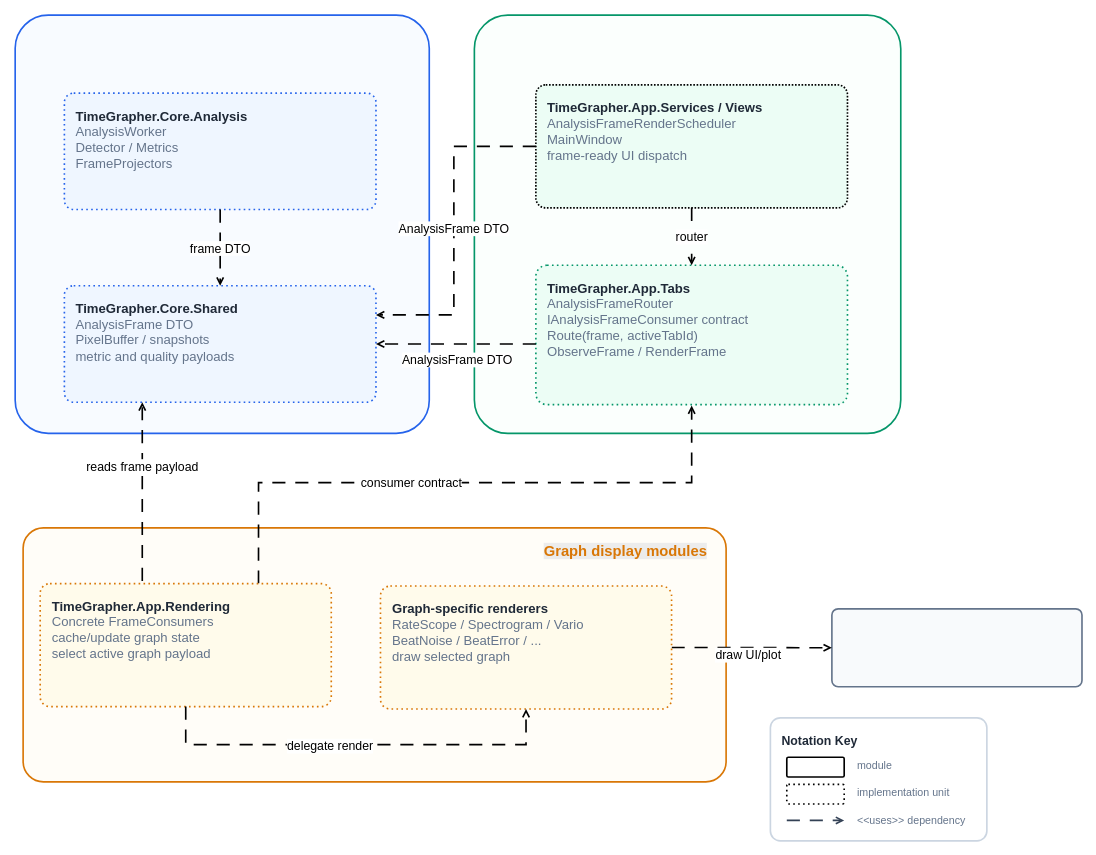
Some shapes in this 1096 by 855 pixel diagram are drawn without their labels. Here are the shapes that lost their labels. From the top down, the box of each, then its label:
(14, 14, 430, 434): Core modules
(473, 14, 901, 434): App routing modules
(831, 608, 1082, 687): External modules Avalonia UI ScottPlot.Avalonia
